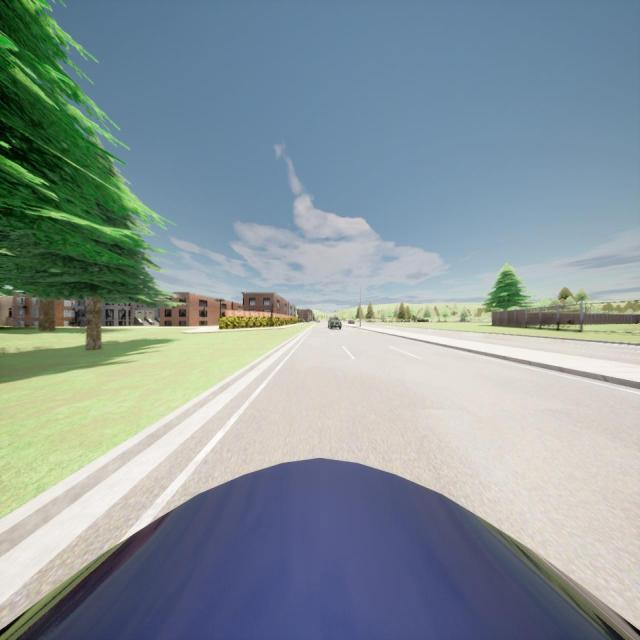Vehicle: (0, 455, 640, 640), (328, 317, 342, 329), (348, 320, 355, 324)
